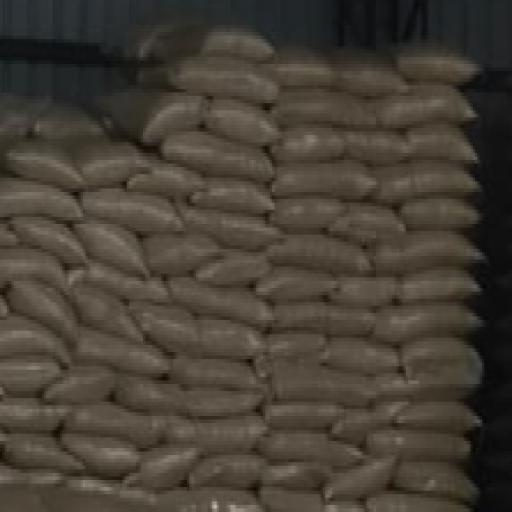Rice-bag-10: (143, 57, 277, 100), (101, 89, 203, 142), (161, 132, 272, 178), (171, 277, 270, 324), (376, 160, 477, 203), (81, 188, 180, 231), (180, 206, 277, 249), (76, 327, 166, 373), (374, 231, 480, 270), (374, 302, 477, 341), (272, 363, 374, 402), (65, 402, 159, 444), (74, 220, 145, 274), (5, 139, 83, 188), (7, 281, 74, 338), (376, 85, 473, 124), (272, 160, 374, 196), (258, 430, 360, 466), (74, 284, 141, 338), (272, 89, 374, 124), (166, 416, 265, 452), (268, 235, 369, 270), (134, 302, 203, 352), (71, 139, 145, 185), (332, 50, 406, 96), (74, 263, 166, 299), (12, 217, 83, 263), (367, 427, 468, 459), (0, 178, 81, 217), (397, 43, 477, 82), (145, 231, 217, 274), (401, 338, 480, 377), (205, 100, 277, 142), (376, 366, 480, 395), (129, 444, 198, 487), (62, 434, 138, 473), (394, 462, 475, 498), (0, 316, 67, 359), (191, 178, 272, 213), (274, 302, 371, 331), (332, 203, 404, 242), (171, 356, 258, 388), (323, 459, 394, 498), (129, 160, 203, 196), (5, 434, 81, 469), (198, 316, 263, 356), (272, 124, 344, 160), (44, 366, 115, 402), (0, 249, 65, 288), (399, 267, 477, 299), (256, 267, 334, 299), (401, 196, 477, 228), (332, 402, 401, 437), (408, 124, 475, 160), (323, 338, 397, 370), (189, 455, 263, 487), (265, 50, 332, 85), (394, 402, 477, 430), (196, 252, 268, 284), (115, 377, 185, 409), (272, 196, 341, 228), (341, 128, 408, 160), (185, 388, 261, 416), (0, 356, 60, 391), (0, 398, 65, 430), (261, 462, 330, 491), (265, 402, 341, 427), (334, 277, 397, 306), (268, 331, 323, 356)
other: (0, 0, 510, 220), (365, 0, 510, 508)
pile: (0, 21, 480, 508)
